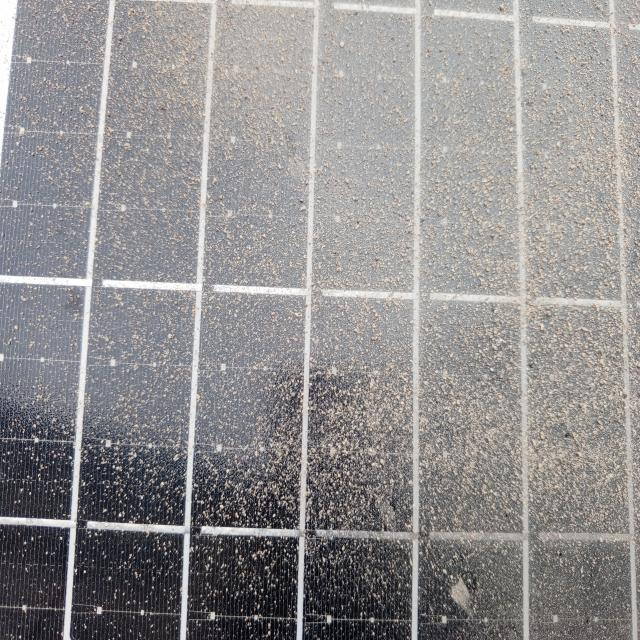Anomaly Solar Panel: (7, 8, 639, 638)
Surface Contaminant: (7, 8, 639, 638)
